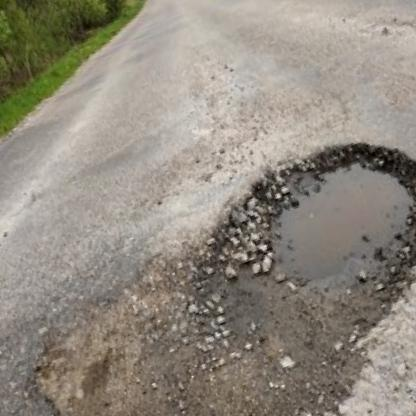pothole: (204, 113, 416, 353), (1, 245, 258, 416)
